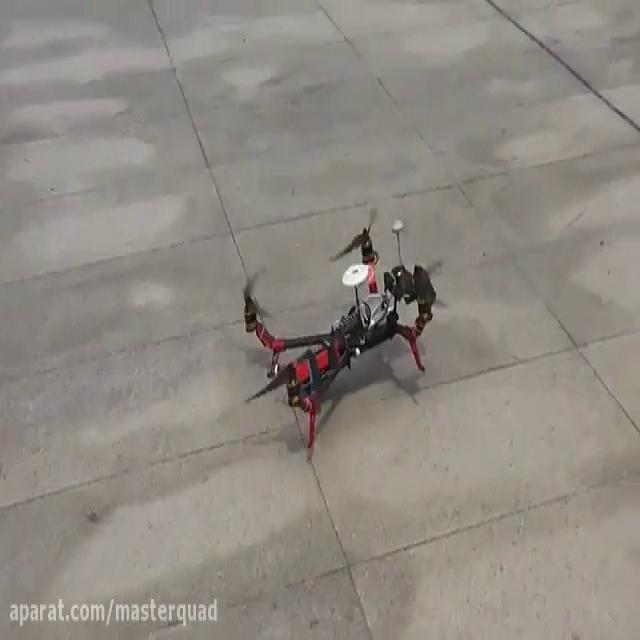drone: (222, 194, 467, 464)
